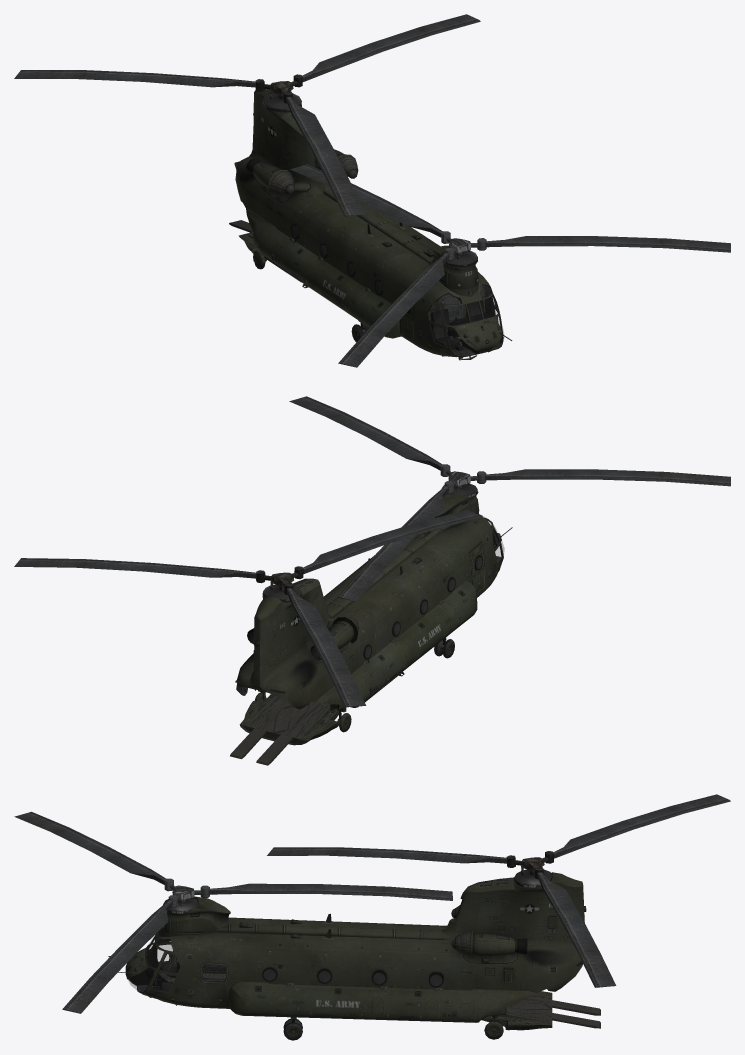
3 views of the same model, one above another, from view 1: azimuth 30°, elevation 25°; view 2: azimuth 150°, elevation 25°; view 3: azimuth 270°, elevation 25° (orthographic).
Visible parts, largest first — view 1: ch47, rotor_aft, rotor_fore; view 2: ch47, rotor_aft, rotor_fore, ramp, boards; view 3: ch47, rotor_aft, rotor_fore, ramp, boards.
Part boxes in pixels (x1,y1,x2,y2): ch47: (235,89,512,360); rotor_aft: (14,14,480,216); rotor_fore: (290,164,730,367); ch47: (236,483,512,732); rotor_aft: (14,510,481,707); rotor_fore: (289,396,730,601); ramp: (239,692,357,744); boards: (230,726,300,765); ch47: (108,869,586,1040); rotor_aft: (267,794,730,987); rotor_fore: (14,811,452,1013); ramp: (478,991,552,1035); boards: (552,1000,600,1028).
Size of the model in its own units: 15.32 by 5.54 by 22.48.
5 materials, 5 textured.
